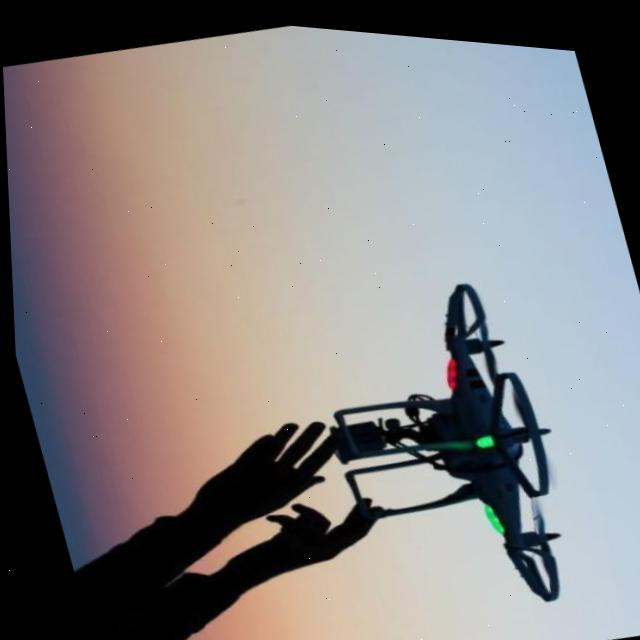drones: (276, 231, 627, 640)
